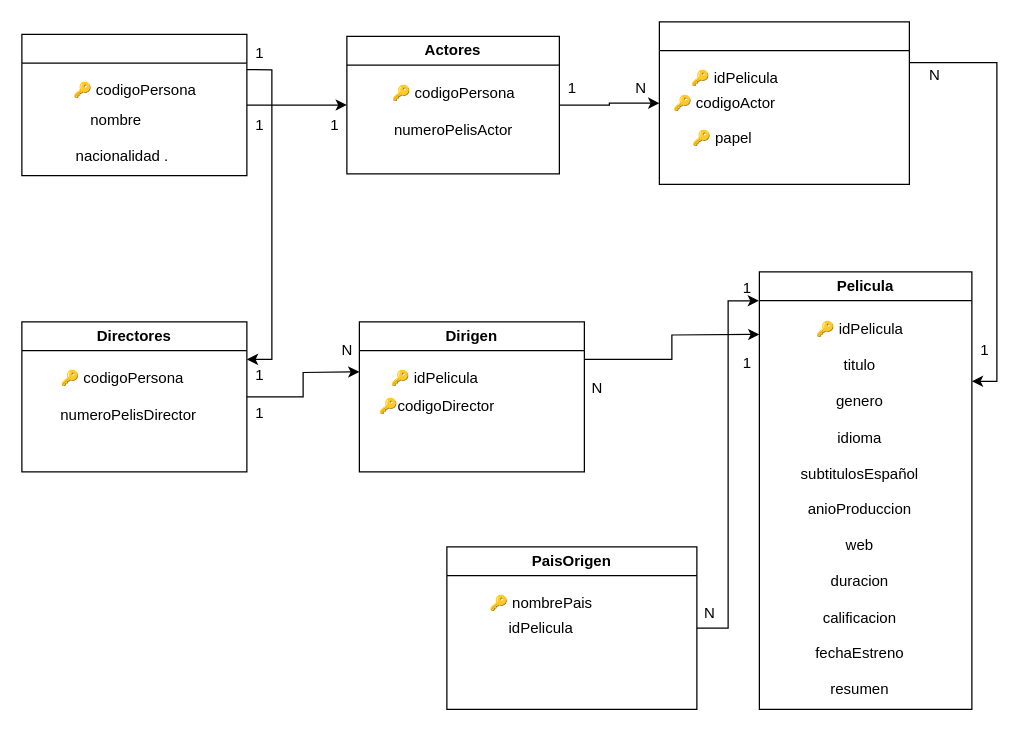
This 1029x731 diagram has some shape labels left out. Here are the shapes that lost their labels. From the top down, the box of each, then its label:
(21, 33, 247, 176): Personas
(658, 21, 909, 184): Actuan
